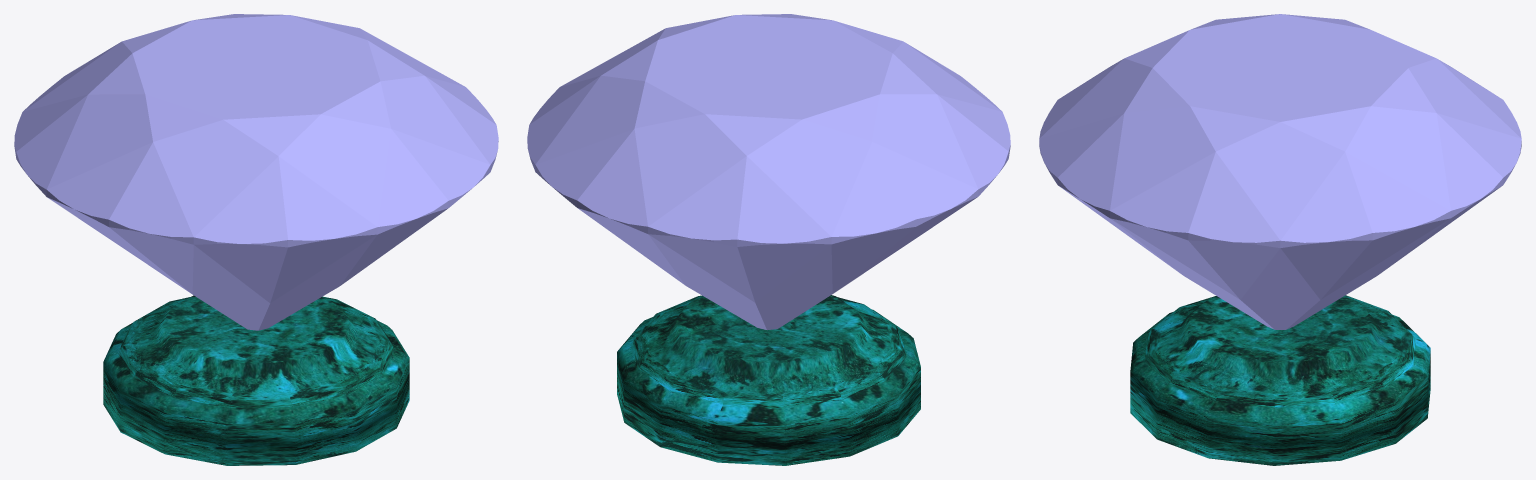
The model's file is diamond.glb.
3 views of the same model, side by side, from view 1: azimuth 30°, elevation 25°; view 2: azimuth 150°, elevation 25°; view 3: azimuth 270°, elevation 25° (orthographic).
Parts seen in each view (by area): view 1: dobj, Cylinder.018; view 2: dobj, Cylinder.018; view 3: dobj, Cylinder.018.
Part boxes in pixels (x1,y1,x2,y2): dobj: (14,14,498,330); Cylinder.018: (103,295,409,465); dobj: (527,14,1010,330); Cylinder.018: (617,295,920,465); dobj: (1039,14,1521,329); Cylinder.018: (1130,295,1430,465).
Bounding box in the file's own units: 3.16 × 2.41 × 3.16.
Materials: 2 (1 with a texture image).
